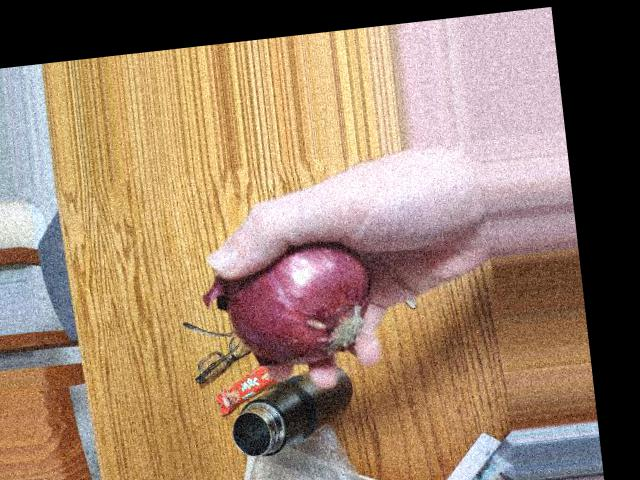onion: (234, 222, 367, 352)
